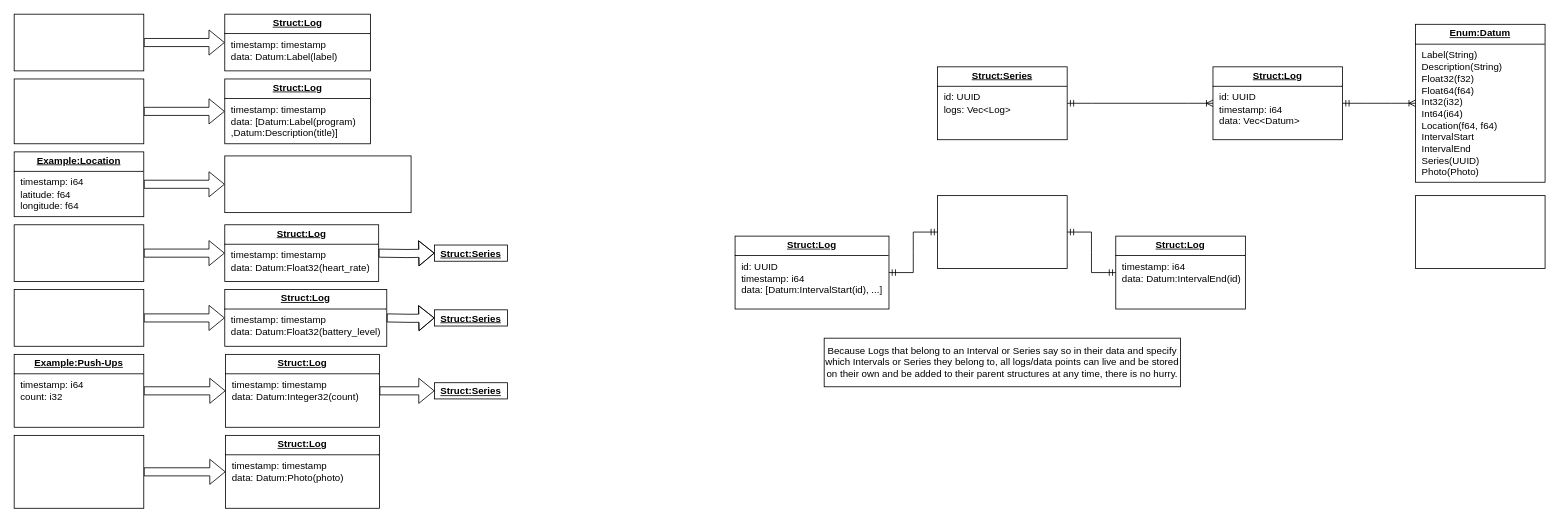
Some shapes in this 1559 by 522 pixel diagram are drawn without their labels. Here are the shapes that lost their labels. From the top down, the box of each, then its label:
(13, 13, 144, 71): Example:Activity timestamp: i64 label: String
(13, 78, 144, 144): Example:ActiveProgram timestamp: i64 program: String title: String
(224, 155, 411, 213): Struct:Log timestamp: timestamp data: Datum:Location(latitude, longitude)
(937, 195, 1067, 269): Struct:Interval id: UUID start: i64 end: i64 data: Vec<Datum>
(1415, 195, 1545, 269): Photo URL(UUID, String) File(UUID, String, ByteArr?)
(13, 224, 144, 281): Example:Heart_Rate timestamp: i64 heart_rate: f32
(13, 289, 144, 346): Example:Battery_Level timestamp: i64 battery_level: f32
(13, 435, 144, 508): Example:Photo timestamp: i64 photo: Photo
